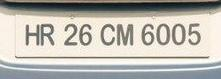0: (170, 22, 185, 45), (155, 22, 169, 45)
2: (63, 22, 77, 46)
5: (186, 20, 201, 45)
6: (77, 22, 91, 46), (141, 22, 154, 46)
C: (99, 22, 114, 45)
H: (23, 22, 39, 45)
M: (115, 22, 133, 46)
R: (38, 21, 54, 45)
